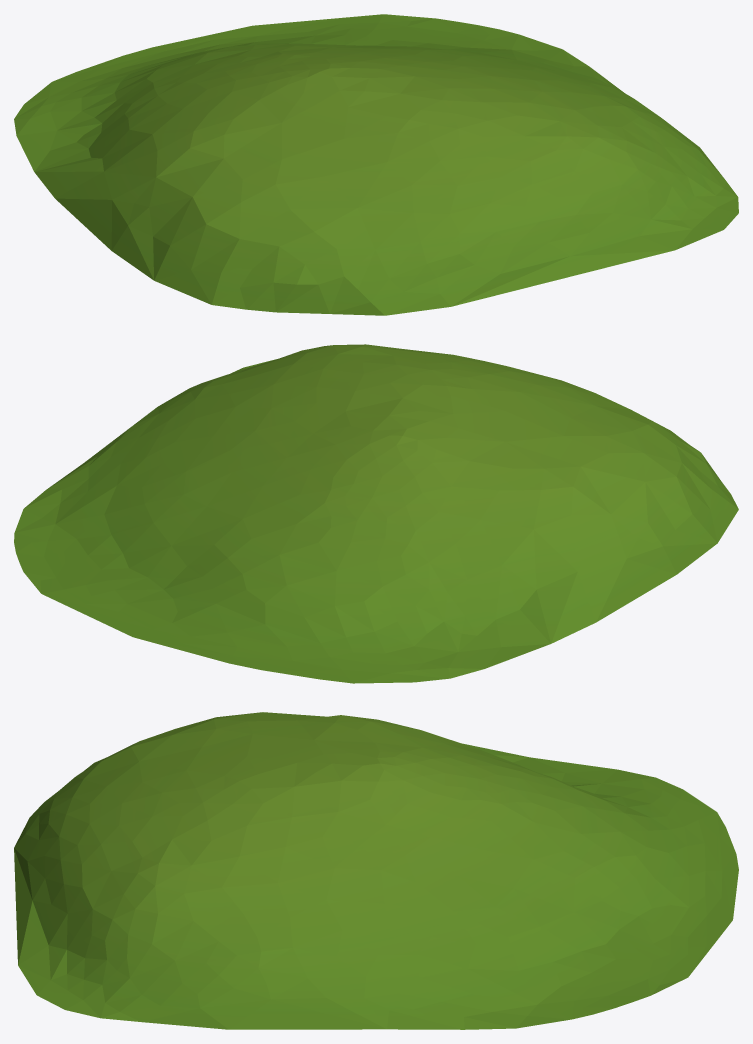
File: Hill_01.fbx
3 views of the same model, one above another, from view 1: azimuth 30°, elevation 25°; view 2: azimuth 150°, elevation 25°; view 3: azimuth 270°, elevation 25° (orthographic). The views are drawn at different scales.
Parts seen in each view (by area): view 1: Hill_01; view 2: Hill_01; view 3: Hill_01.
Boxes of the visible parts, x1,y1,x2,y2 form: Hill_01: (14,14,738,315); Hill_01: (14,344,738,683); Hill_01: (14,712,738,1029).
Size of the model in its own units: 5643 by 982 by 6080.
